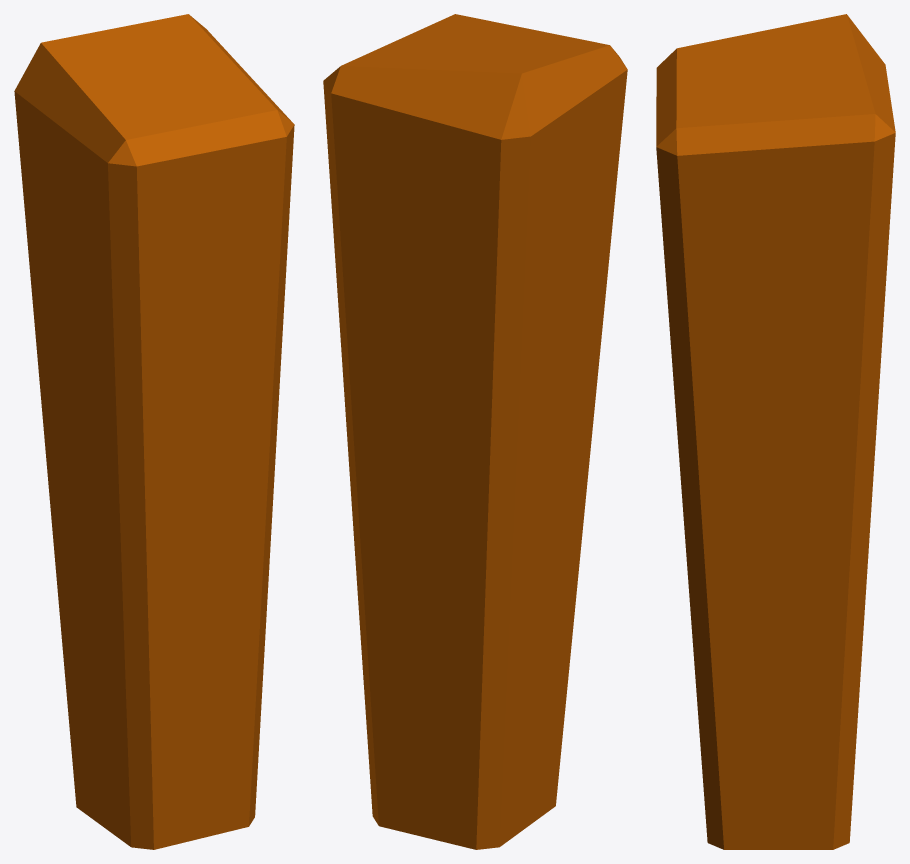
The model's file is SM_Fence_Pole02_.fbx.
The picture shows the model from 3 angles, left to right: view 1: azimuth 30°, elevation 25°; view 2: azimuth 150°, elevation 25°; view 3: azimuth 270°, elevation 25°; orthographic projection. The views are drawn at different scales.
Parts seen in each view (by area): view 1: SM_Fence_Pole02_; view 2: SM_Fence_Pole02_; view 3: SM_Fence_Pole02_.
Part boxes in pixels (x1=…): SM_Fence_Pole02_: x1=14, y1=14, x2=294, y2=849; SM_Fence_Pole02_: x1=323, y1=14, x2=627, y2=849; SM_Fence_Pole02_: x1=656, y1=14, x2=895, y2=849.
Bounding box in the file's own units: 53.98 × 200 × 56.94.
